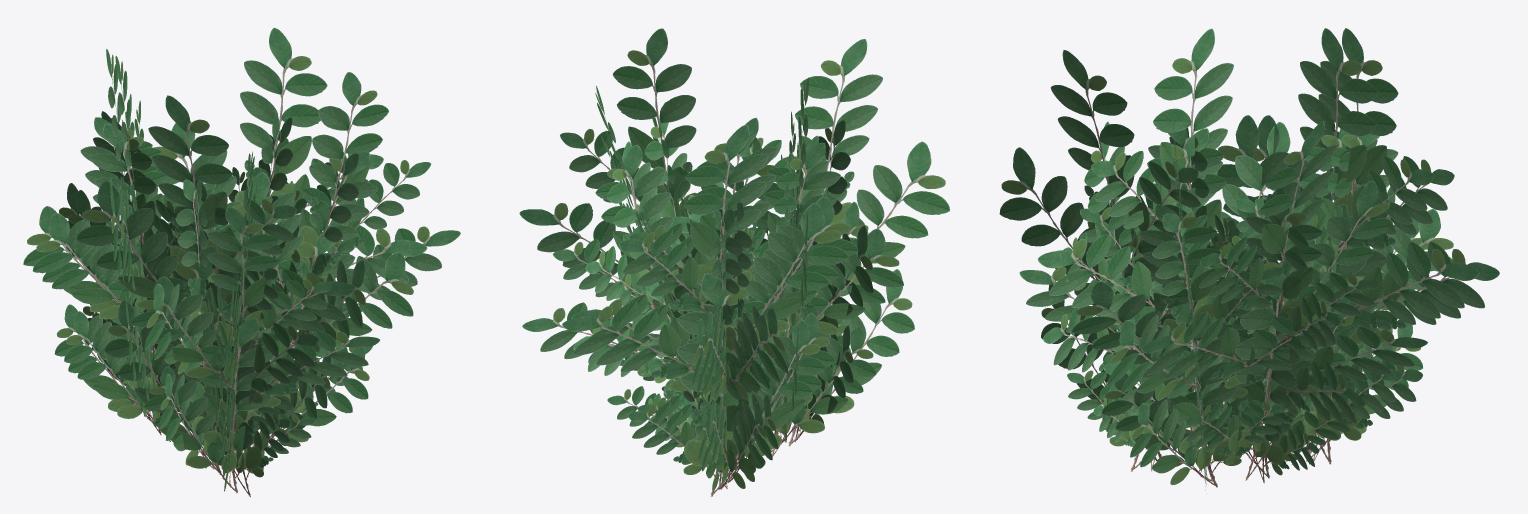
File: big_foliage_01.glb
The picture shows the model from 3 angles, left to right: view 1: azimuth 30°, elevation 25°; view 2: azimuth 150°, elevation 25°; view 3: azimuth 270°, elevation 25°; orthographic projection. The views are drawn at different scales.
Visible parts, largest first — view 1: Plane.089; view 2: Plane.089; view 3: Plane.089.
Part boxes in pixels (x1,y1,x2,y2): Plane.089: [23, 27, 460, 497]; Plane.089: [519, 28, 949, 496]; Plane.089: [999, 28, 1499, 493].
Size of the model in its own units: 2.74 by 2.87 by 3.1.
Materials: 1 (1 with a texture image).
